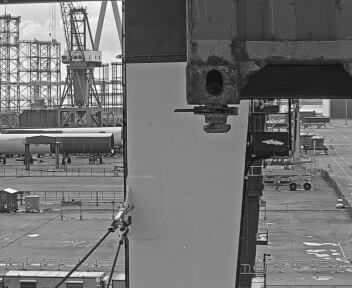twist_lock_1: (139, 184, 227, 242)
